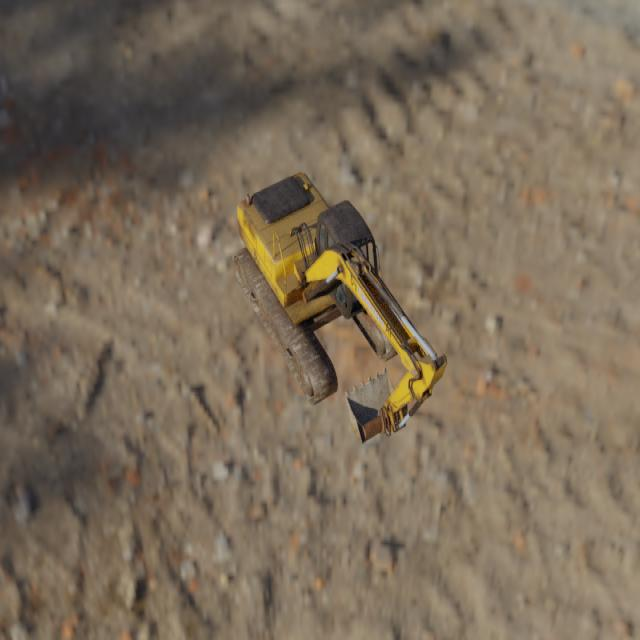excavator: (232, 171, 447, 444)
